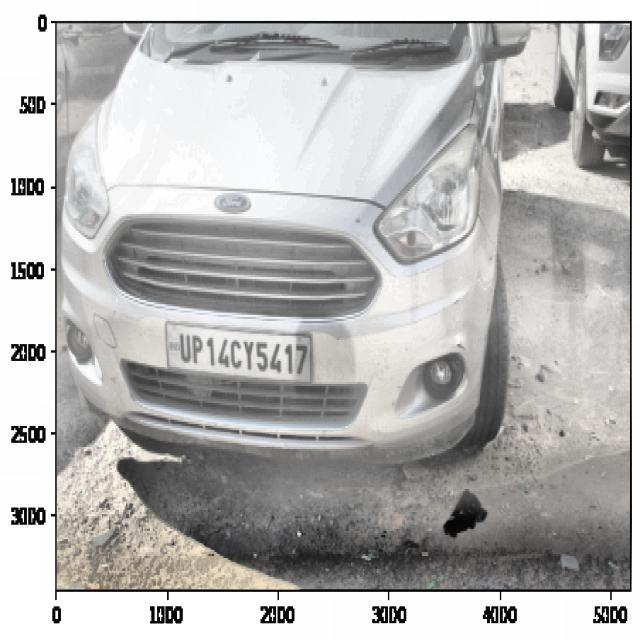license_plate: (174, 325, 316, 382)
